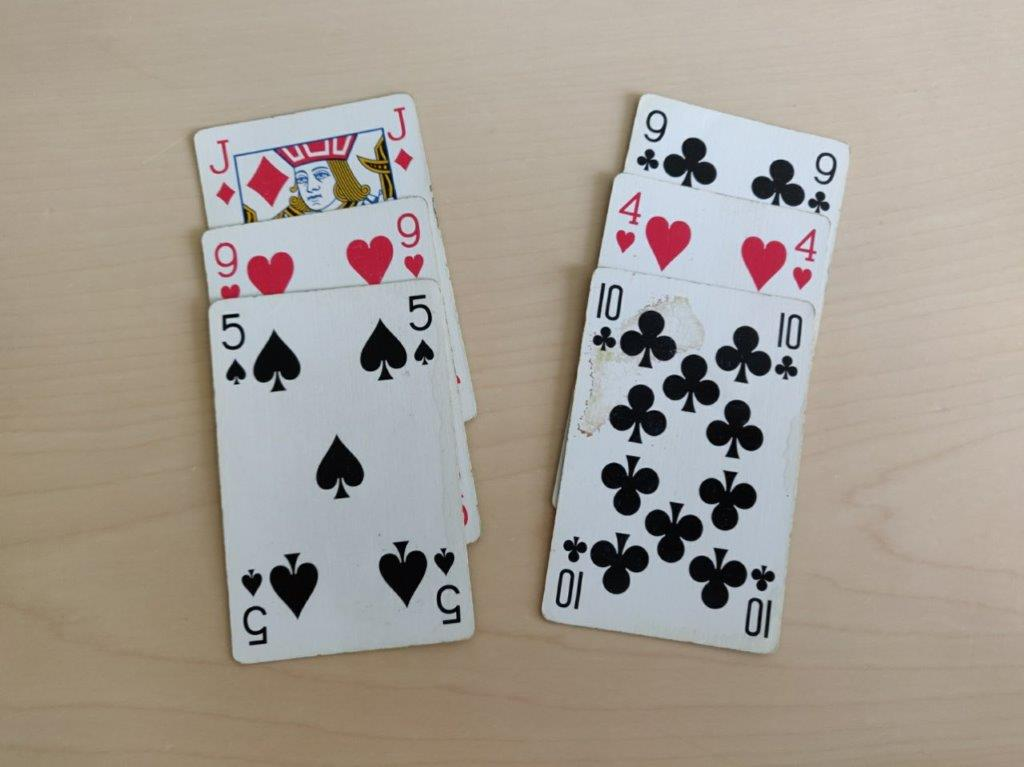10C: (585, 276, 628, 355), (770, 306, 804, 383)
4H: (609, 189, 647, 255), (787, 225, 821, 291)
5S: (402, 290, 441, 369), (215, 306, 249, 388)
9C: (628, 104, 671, 170), (804, 144, 838, 217)
9H: (393, 209, 433, 280)
JD: (377, 100, 420, 173), (207, 131, 239, 213)
